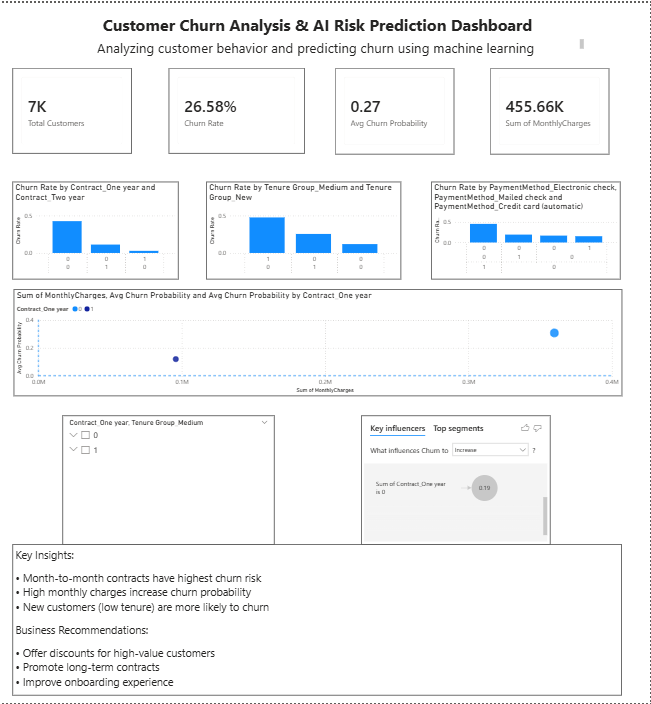

What the dashboard file says about the page in this screenshot:
{"tool":"powerbi","page":{"name":"Page 1","canvas":[1300,1400],"ordinal":0},"visuals":[{"type":"textbox","box":[176.7,16.8,891.9,67.3],"z":0},{"type":"textbox","box":[190.7,68.6,982.5,46.7],"z":1000},{"type":"cardVisual","fields":{"Data":["churn_predictions.Total Customers"]},"box":[24.7,130.4,238.8,171.5],"z":2000},{"type":"cardVisual","fields":{"Data":["churn_predictions.Churn Rate"]},"box":[337.6,130.4,271.7,171.5],"z":3000},{"type":"cardVisual","fields":{"Data":["churn_predictions.Avg Churn Probability"]},"box":[669.6,130.4,238.8,172.9],"z":4000},{"type":"cardVisual","fields":{"Data":["Sum(churn_predictions.MonthlyCharges)"]},"box":[981.1,129,238.8,172.9],"z":5000},{"type":"clusteredColumnChart","fields":{"Category":["churn_predictions.Contract_One year","churn_predictions.Contract_Two year"],"Y":["churn_predictions.Churn Rate"]},"box":[24.7,356.8,332.1,194.9],"z":6000},{"type":"clusteredColumnChart","fields":{"Category":["churn_predictions.Tenure Group_Medium","churn_predictions.Tenure Group_New"],"Y":["churn_predictions.Churn Rate"]},"box":[413,356.8,389.7,194.9],"z":7000},{"type":"clusteredColumnChart","fields":{"Category":["churn_predictions.PaymentMethod_Electronic check","churn_predictions.PaymentMethod_Mailed check","churn_predictions.PaymentMethod_Credit card (automatic)"],"Y":["churn_predictions.Churn Rate"]},"box":[863.1,356.8,378.7,194.9],"z":8000},{"type":"scatterChart","fields":{"X":["Sum(churn_predictions.MonthlyCharges)"],"Series":["churn_predictions.Contract_One year"],"Y":["churn_predictions.Avg Churn Probability"],"Size":["churn_predictions.Avg Churn Probability"]},"box":[26.5,572.7,1216.7,214],"z":9000},{"type":"slicer","fields":{"Values":["churn_predictions.Contract_One year","churn_predictions.Tenure Group_Medium"]},"box":[126,824,424,258],"z":10000},{"type":"keyDriversVisual","fields":{"Target":["churn_predictions.Churn"],"ExplainBy":["Sum(churn_predictions.MonthlyCharges)","Sum(churn_predictions.Contract_One year)","Sum(churn_predictions.Tenure Group_Medium)"]},"box":[722,824,378,258],"z":10001},{"type":"textbox","box":[24,1082,1218,302],"z":10002}]}

Visuals, with their boxes in screenshot pixels (x1, y1, x2, y2), scaled from the page's 1300x1400 canvas onto the 651x704 screenshot:
textbox: (88, 8, 535, 42)
textbox: (95, 34, 588, 58)
cardVisual - churn_predictions.Total Customers: (12, 66, 132, 152)
cardVisual - churn_predictions.Churn Rate: (169, 66, 305, 152)
cardVisual - churn_predictions.Avg Churn Probability: (335, 66, 455, 153)
cardVisual - Sum(churn_predictions.MonthlyCharges): (491, 65, 611, 152)
clusteredColumnChart - churn_predictions.Contract_One year x churn_predictions.Contract_Two year: (12, 179, 179, 277)
clusteredColumnChart - churn_predictions.Tenure Group_Medium x churn_predictions.Tenure Group_New: (207, 179, 402, 277)
clusteredColumnChart - churn_predictions.PaymentMethod_Electronic check x churn_predictions.PaymentMethod_Mailed check: (432, 179, 622, 277)
scatterChart - Sum(churn_predictions.MonthlyCharges) x churn_predictions.Contract_One year: (13, 288, 623, 396)
slicer - churn_predictions.Contract_One year x churn_predictions.Tenure Group_Medium: (63, 414, 275, 544)
keyDriversVisual - churn_predictions.Churn x Sum(churn_predictions.MonthlyCharges): (362, 414, 551, 544)
textbox: (12, 544, 622, 696)
